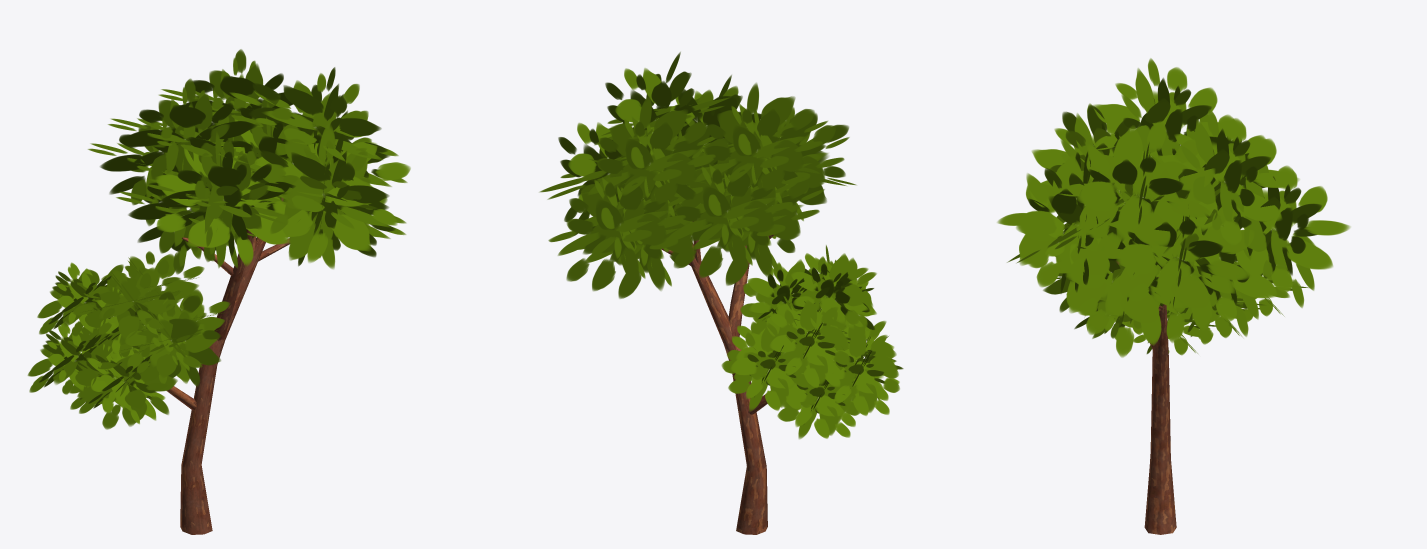
File: tree (500 fc).glb
The picture shows the model from 3 angles, left to right: view 1: azimuth 30°, elevation 25°; view 2: azimuth 150°, elevation 25°; view 3: azimuth 270°, elevation 25°; orthographic projection. The views are drawn at different scales.
Parts seen in each view (by area): view 1: bush.001, bush.002, DeadTree_9; view 2: bush.001, bush.002, DeadTree_9; view 3: bush.001, DeadTree_9, bush.002.
Boxes of the visible parts, <box> form: bush.001: <box>88,49,410,274</box>; bush.002: <box>27,251,230,429</box>; DeadTree_9: <box>166,198,289,534</box>; bush.001: <box>539,52,855,298</box>; bush.002: <box>721,245,903,439</box>; DeadTree_9: <box>661,221,773,534</box>; bush.001: <box>997,58,1350,357</box>; DeadTree_9: <box>1116,261,1176,534</box>; bush.002: <box>1043,256,1308,355</box>.
Bounding box in the file's own units: 4.24 × 4.61 × 4.04.
Materials: 2 (2 with a texture image).
